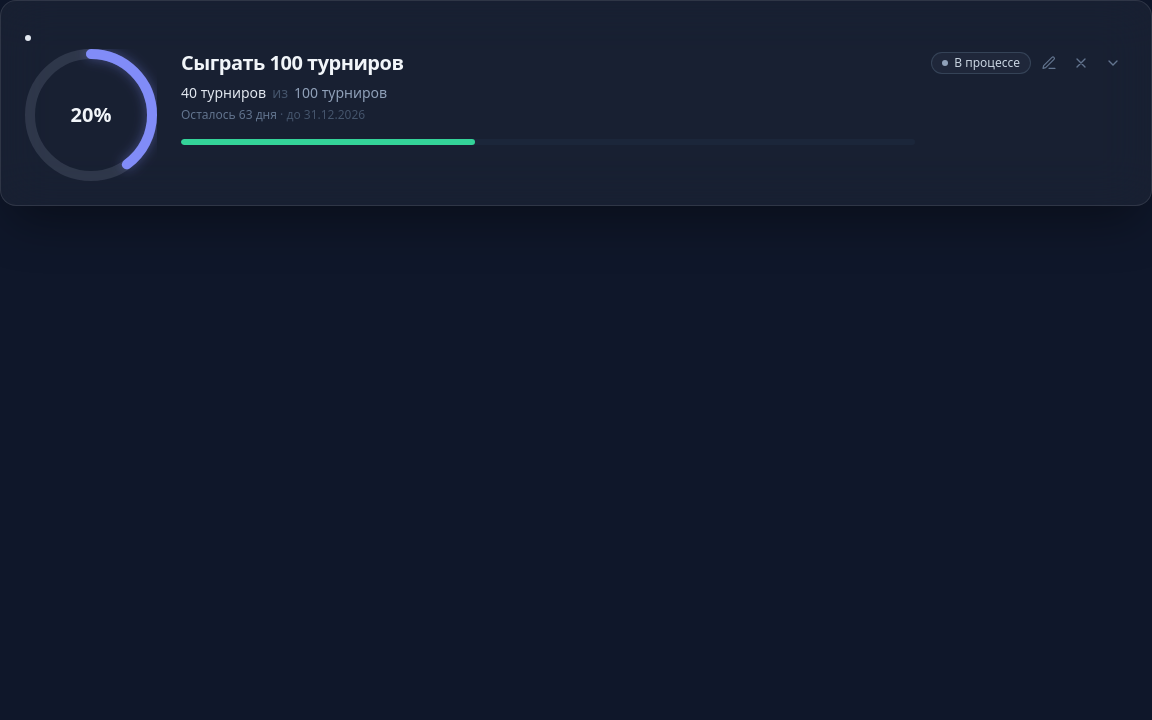
Scenario: GoalCard › starts collapsed, reveals the diary on click and keeps the composer hidden until edit
Expected: the text "Дневник" is not shown
Step 1. Click the button that starts with "Сыграть 100 турниров" → (91, 115), box [25, 49, 915, 181]
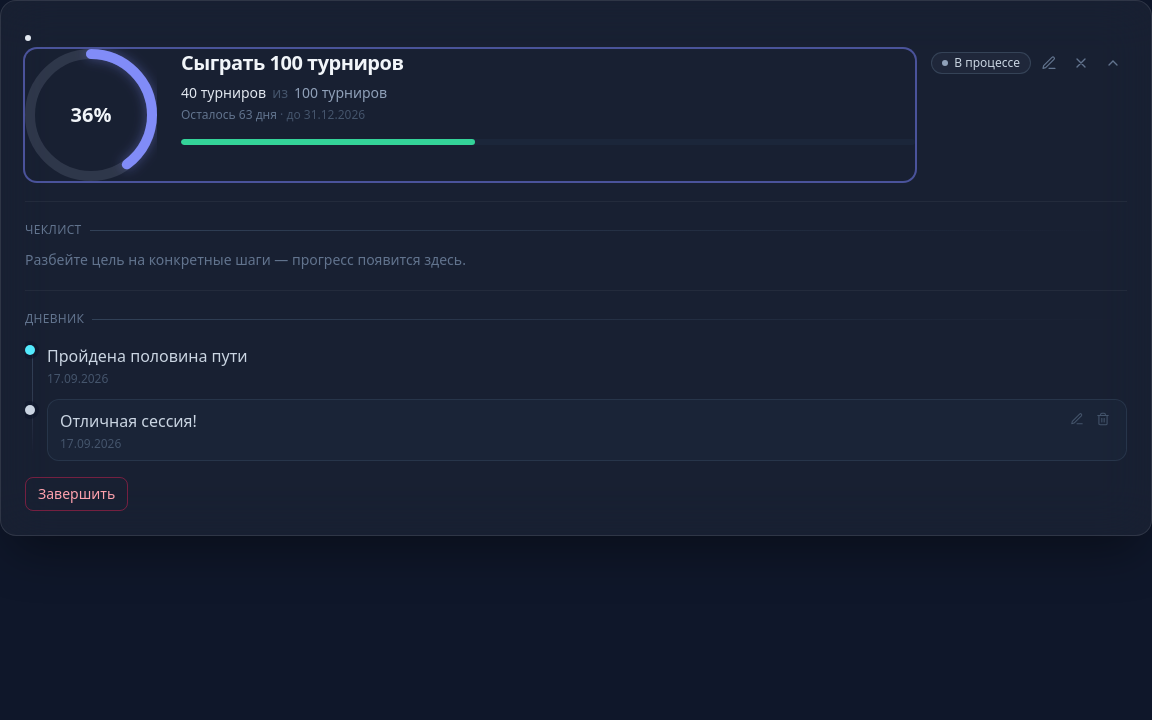
Now the text "Дневник" is shown, box [25, 310, 84, 327]
Step 2. Click the button named "Редактировать цель" → (1049, 63), box [1035, 49, 1063, 77]
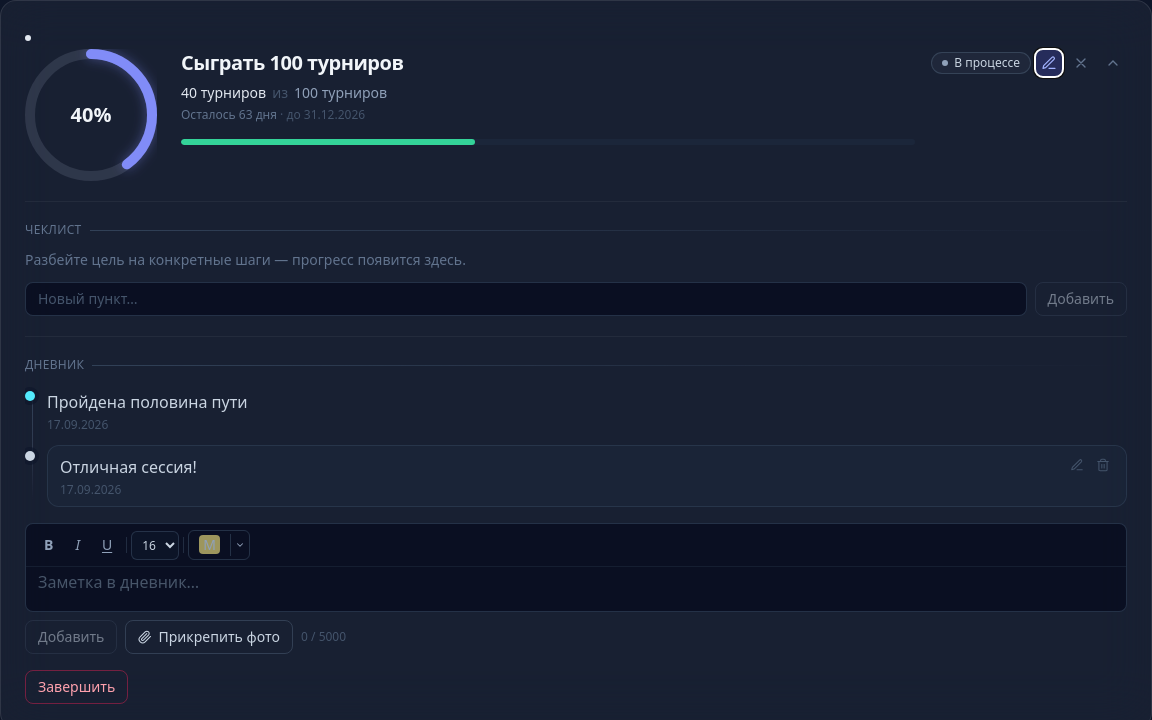
Now the field named "Заметка в дневник" is shown, box [26, 567, 1126, 611]
